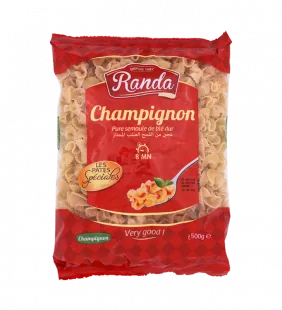RANDA: (44, 22, 243, 291)
